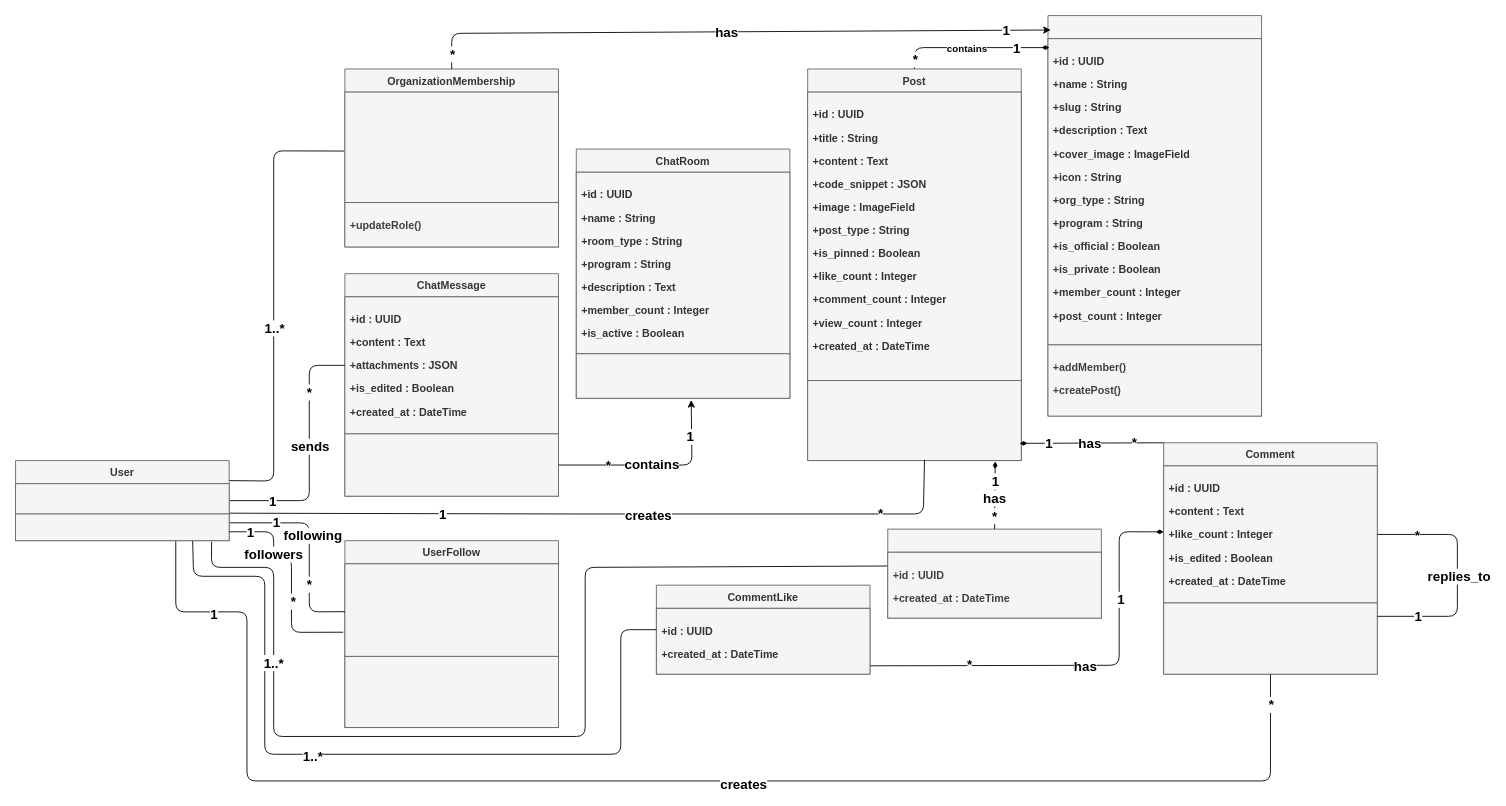
Some shapes in this 1506 by 806 pixel diagram are drawn without their labels. Here are the shapes that lost their labels. From the top down, the box of each, then its label:
(344, 91, 558, 202): +id : UUID +role : String +status : String +joined_at : DateTime
(1047, 15, 1262, 416): Organization
(575, 353, 790, 398): +sendMessage()
(807, 380, 1021, 461): +addComment() +toggleLike() +pin()
(344, 433, 558, 496): +edit() +delete()
(887, 528, 1101, 618): PostLike
(344, 563, 558, 656): +id : UUID +status : String +created_at : DateTime
(1163, 602, 1377, 674): +addReply() +edit()
(344, 655, 558, 728): +accept() +reject()
